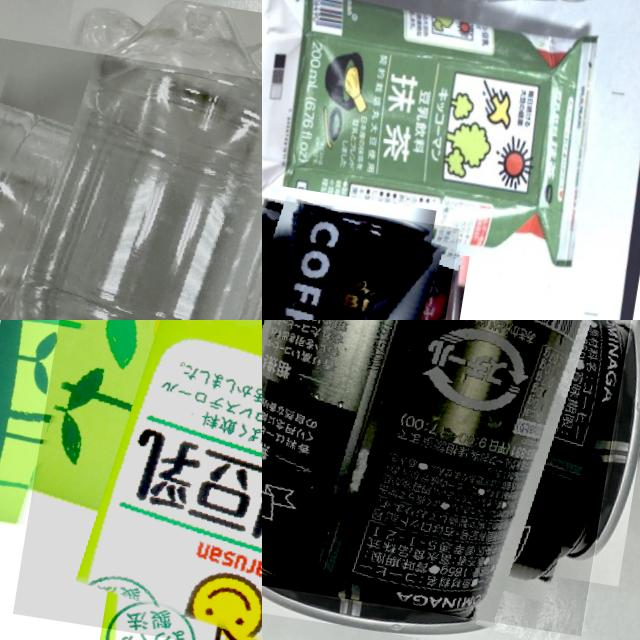Aluminium Foil: (262, 0, 604, 280), (13, 320, 262, 640)
Can: (262, 320, 640, 635), (262, 193, 460, 320)
Transparent Plastic Bottle: (0, 33, 262, 320)
